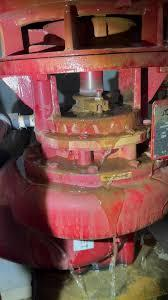leak: (22, 94, 140, 299)
